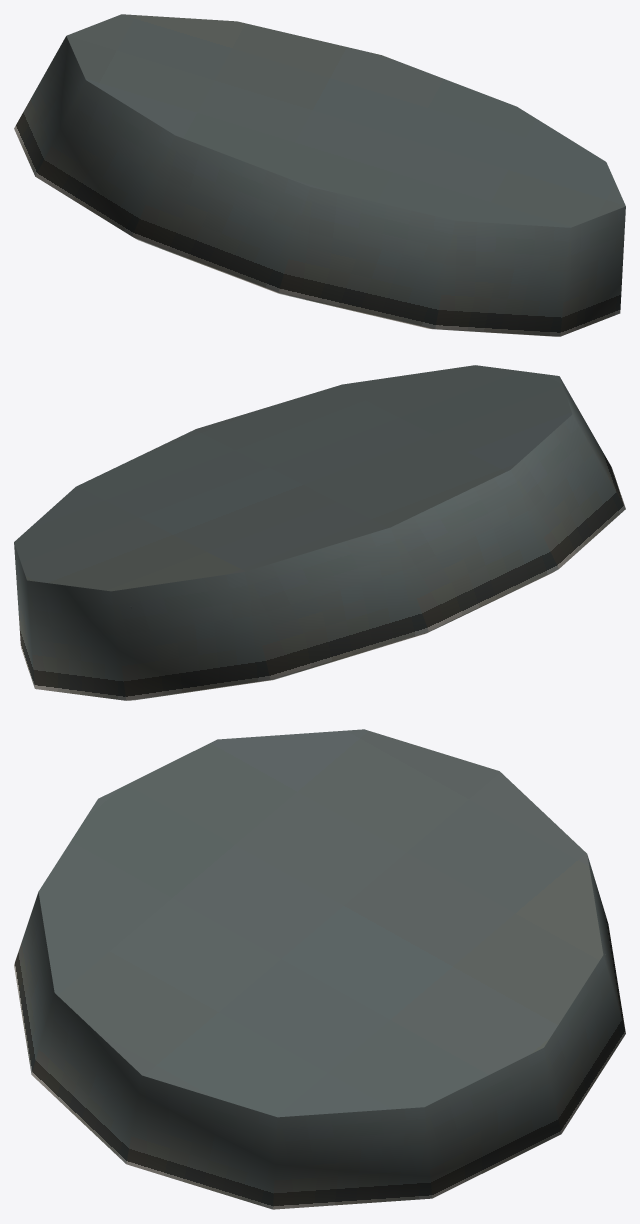
Rendered from H_NianGaoCake.fbx.
3 views of the same model, one above another, from view 1: azimuth 30°, elevation 25°; view 2: azimuth 150°, elevation 25°; view 3: azimuth 270°, elevation 25° (orthographic). The views are drawn at different scales.
Visible parts, largest first — view 1: NianGao; view 2: NianGao; view 3: NianGao.
Boxes of the visible parts, <box> form: NianGao: <box>14,14,625,336</box>; NianGao: <box>14,365,625,700</box>; NianGao: <box>14,729,625,1209</box>.
Bounding box in the file's own units: 47.48 × 22.91 × 49.11.
